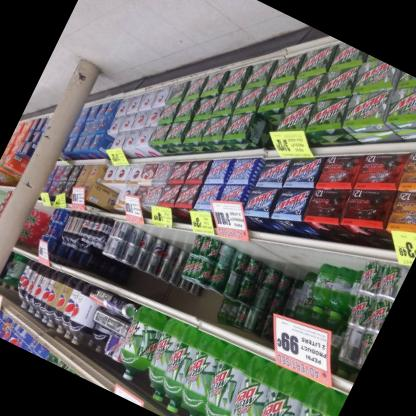empty_space: (247, 236, 317, 283), (139, 277, 194, 313), (145, 217, 194, 253), (339, 255, 362, 272)
